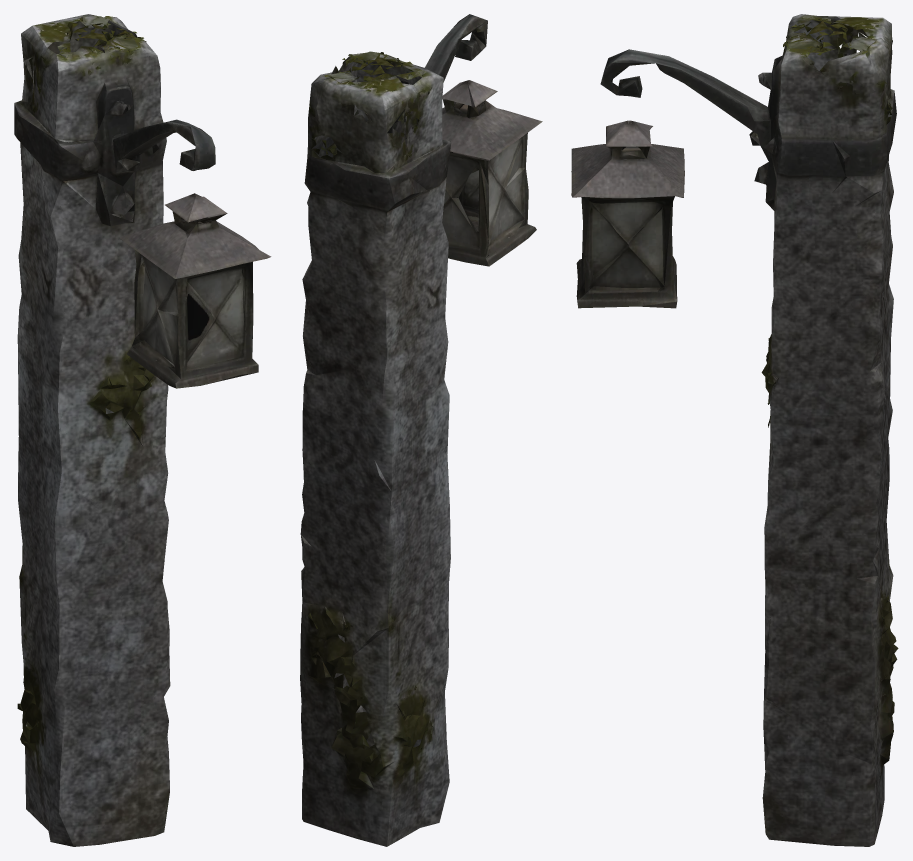
The model's file is waystone.glb.
3 renders of one model, left to right at view 1: azimuth 30°, elevation 25°; view 2: azimuth 150°, elevation 25°; view 3: azimuth 270°, elevation 25°, orthographic. The views are drawn at different scales.
Visible parts, largest first — view 1: waystone; view 2: waystone; view 3: waystone.
Part boxes in pixels (<box>): waystone: <box>14,14,271,846</box>; waystone: <box>300,14,542,846</box>; waystone: <box>571,14,898,846</box>.
Size of the model in its own units: 0.2898 by 1.9 by 0.7105.
1 material, 1 textured.
